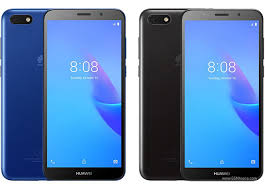huawei: (44, 7, 126, 180), (181, 8, 263, 181), (138, 6, 182, 181), (1, 7, 44, 182)
